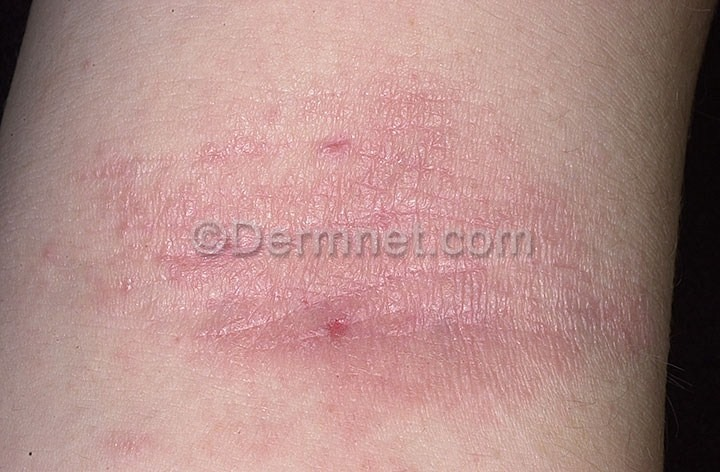Eczema: (36, 56, 655, 459)
